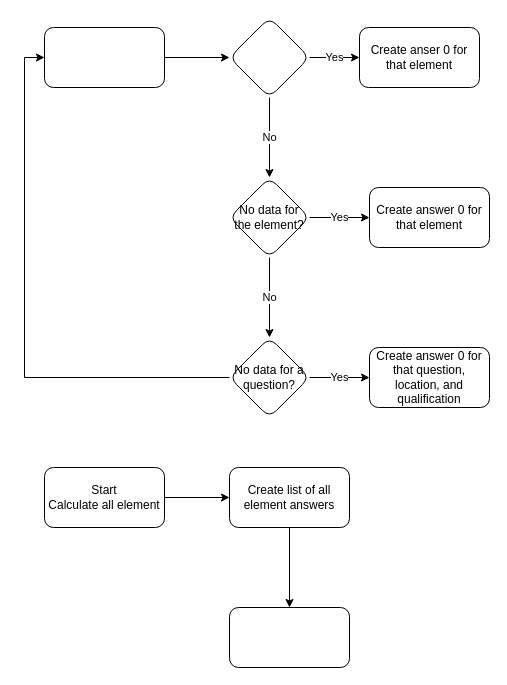
Image size: 507x685. Some labels were removed from this diagram. The shapes that lost their labels are listed below. From the top down, each one's centre as x and y in pixels, then its label:
At (x=104, y=57): "Start Create list of all elements".
At (x=269, y=57): "No data for site?".
At (x=289, y=637): "Calculate all element".
